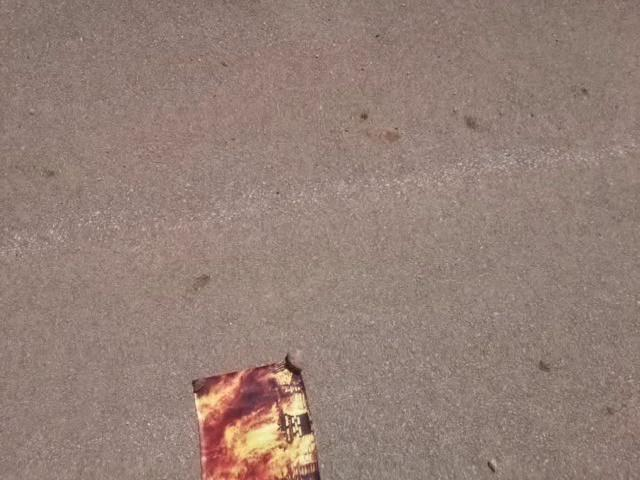fire-poster: (189, 348, 324, 479)
